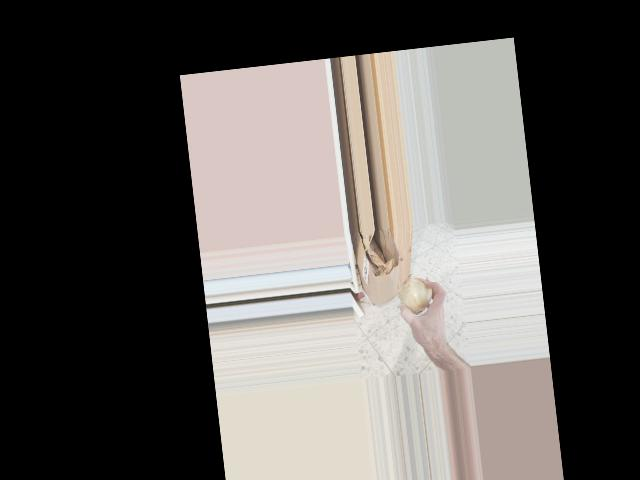onion: (394, 271, 436, 316)
